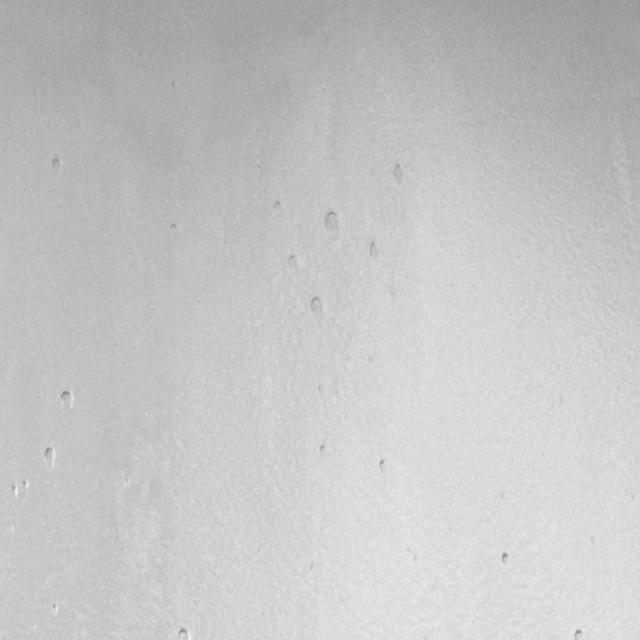pin holes: (319, 206, 346, 242), (391, 160, 411, 188), (364, 239, 384, 264), (308, 294, 328, 318), (50, 154, 67, 181), (39, 445, 58, 469), (57, 390, 76, 413), (374, 454, 393, 476), (286, 253, 303, 275), (315, 442, 331, 461), (500, 550, 515, 570), (270, 197, 286, 215), (167, 221, 182, 238), (174, 626, 190, 639), (50, 602, 62, 619), (572, 626, 587, 639), (10, 482, 20, 499), (21, 478, 32, 493)
